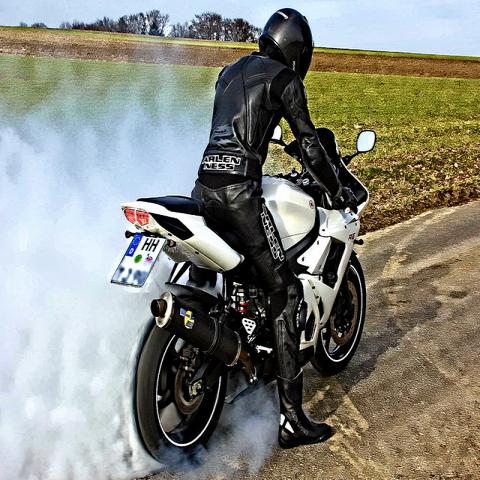motorcycle: (110, 123, 378, 467)
